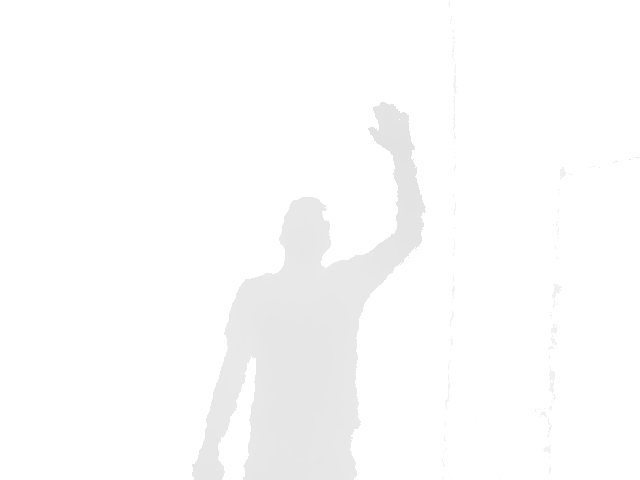hand: (366, 103, 417, 153)
head: (277, 195, 332, 258)
person: (190, 102, 427, 479)
